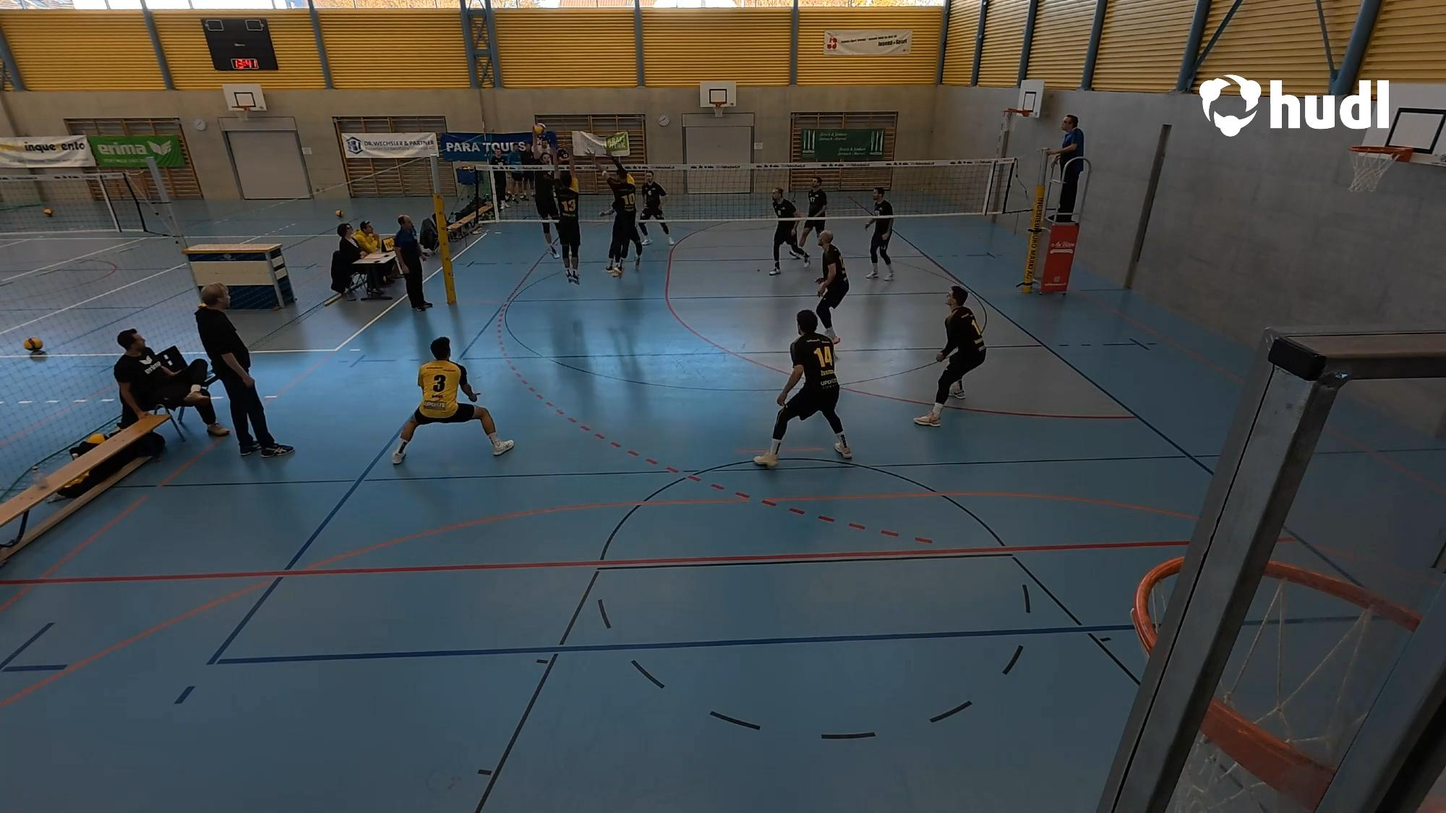attacco: (527, 122, 563, 265)
muro: (601, 156, 646, 283), (547, 161, 590, 288)
